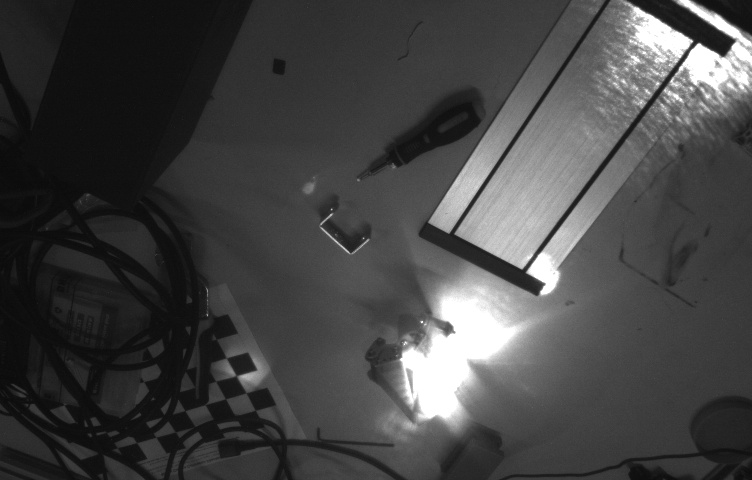Object robotic gripper finger assembly - Material plastic - Color blue - Pdfname: (425, 352, 461, 406)
